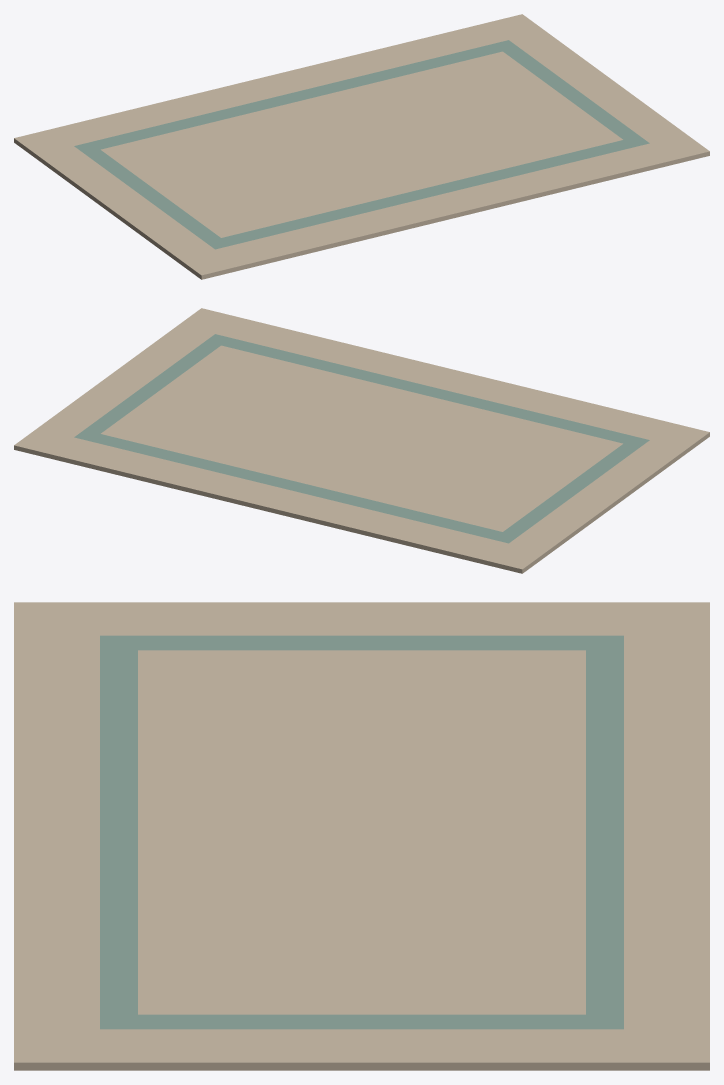
The model's file is bedrug.glb.
3 renders of one model, top to bottom at view 1: azimuth 30°, elevation 25°; view 2: azimuth 150°, elevation 25°; view 3: azimuth 270°, elevation 25°, orthographic. The views are drawn at different scales.
Visible parts, largest first — view 1: rugRectangle(Clone); view 2: rugRectangle(Clone); view 3: rugRectangle(Clone).
Boxes of the visible parts, x1,y1,x2,y2 form: rugRectangle(Clone): (14, 14, 709, 279); rugRectangle(Clone): (14, 308, 709, 573); rugRectangle(Clone): (14, 602, 709, 1070).
Bounding box in the file's own units: 1.8 × 0.015 × 1.15.
